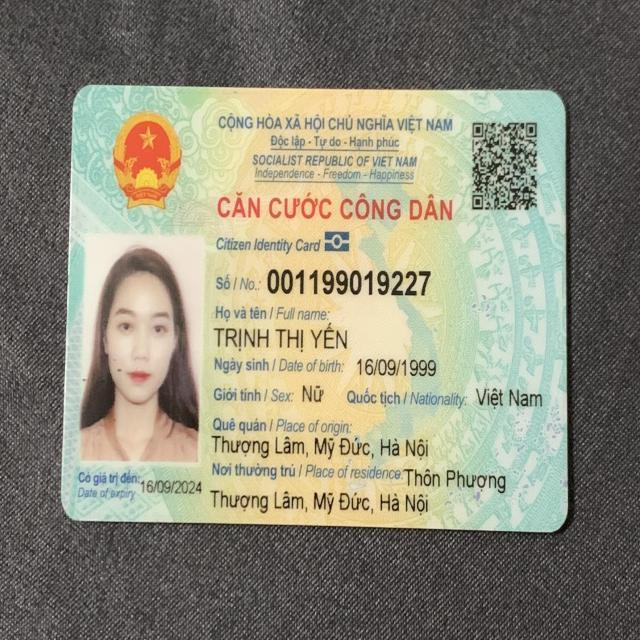current_place: (210, 486, 434, 519), (403, 462, 509, 494)
dob: (356, 351, 438, 382)
expire_date: (141, 477, 203, 499)
gender: (298, 372, 335, 415)
id: (262, 258, 430, 297)
name: (212, 318, 351, 356)
nationality: (469, 383, 546, 411)
origin_place: (209, 432, 429, 462)
qr: (468, 115, 544, 216)
